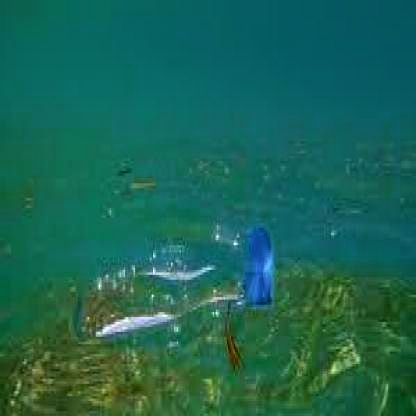pbottle: (60, 223, 282, 337)
